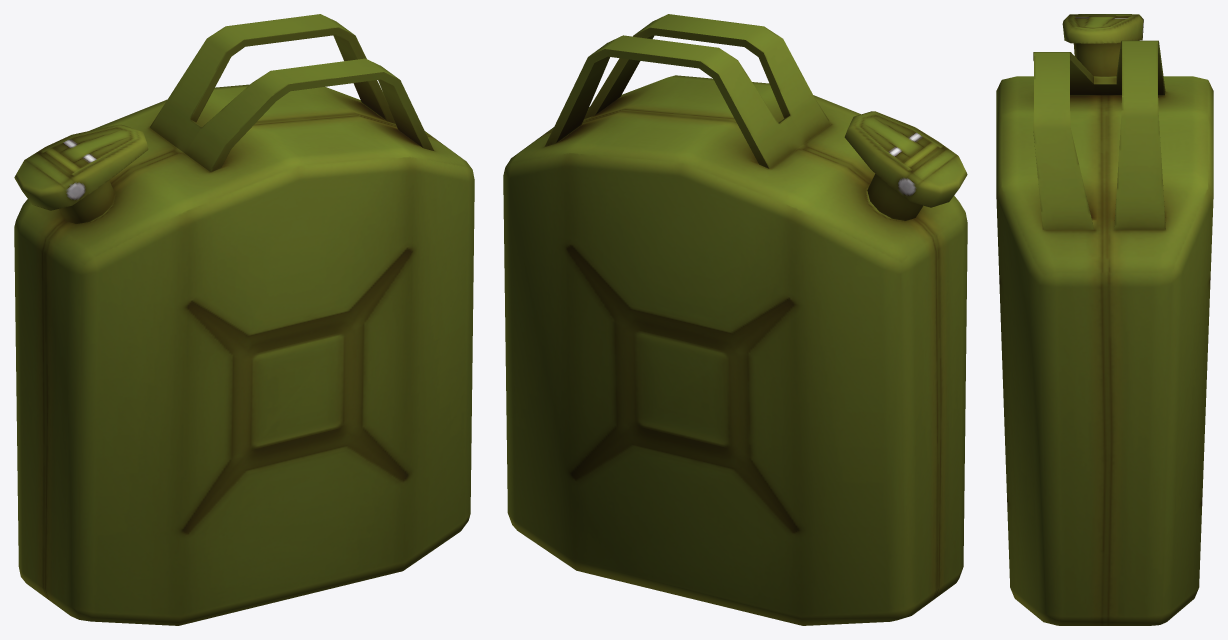
Rendered from FuelCan01.FBX.
3 renders of one model, left to right at view 1: azimuth 30°, elevation 25°; view 2: azimuth 150°, elevation 25°; view 3: azimuth 270°, elevation 25°, orthographic. The views are drawn at different scales.
Visible parts, largest first — view 1: FuelCan01; view 2: FuelCan01; view 3: FuelCan01.
Part boxes in pixels (x1,y1,x2,y2): FuelCan01: [14, 14, 474, 625]; FuelCan01: [503, 14, 967, 625]; FuelCan01: [996, 14, 1213, 625].
Size of what is drawn, in the model's own units: 0.5799 by 0.6825 by 0.2629.
